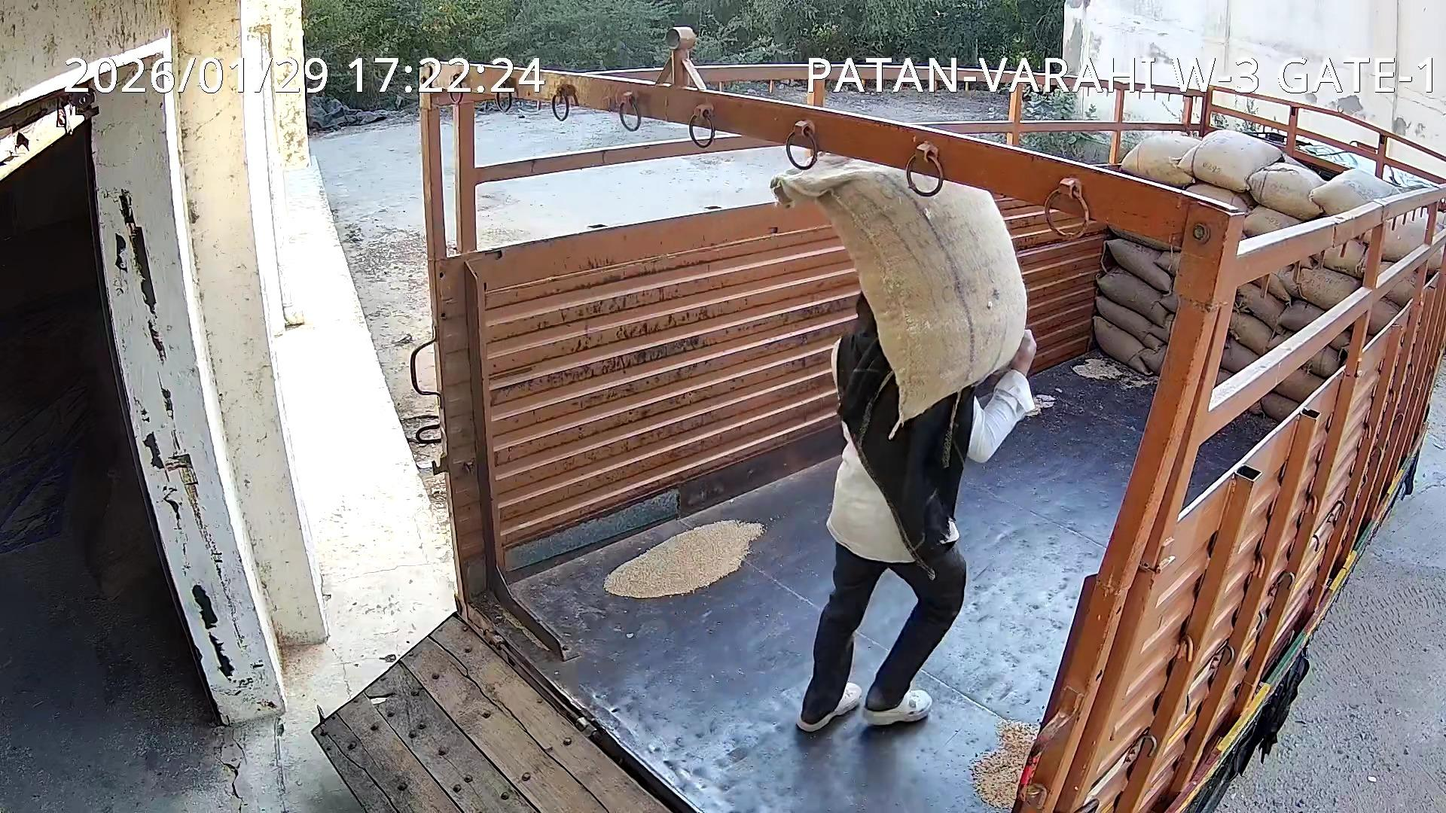Sack: (771, 157, 1028, 422)
